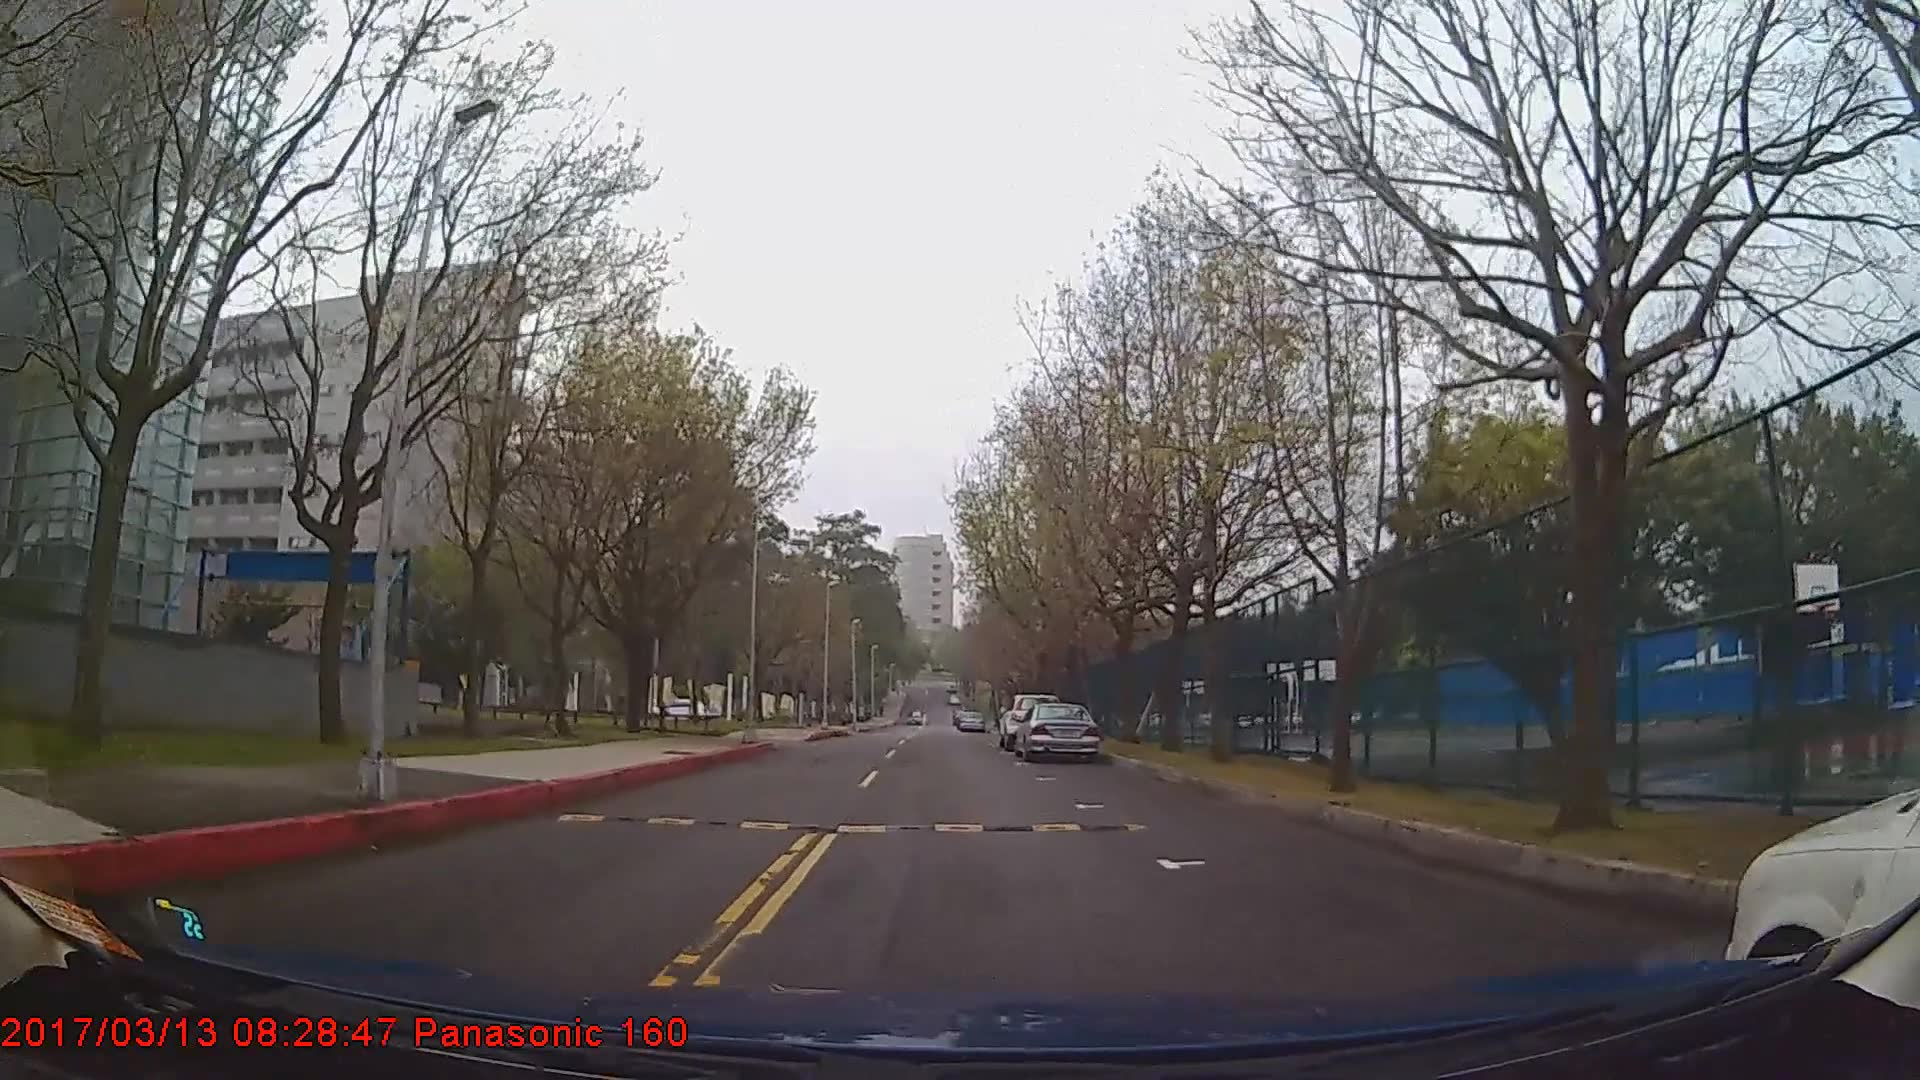vehicle: (1010, 699, 1098, 760), (953, 705, 988, 731)
